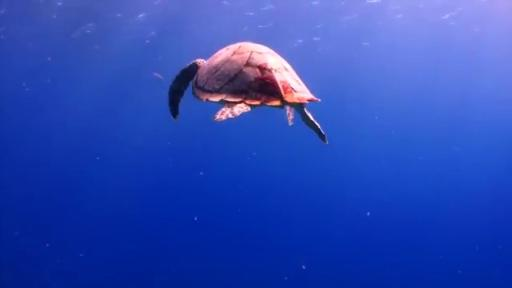Fish: (168, 42, 327, 143)
